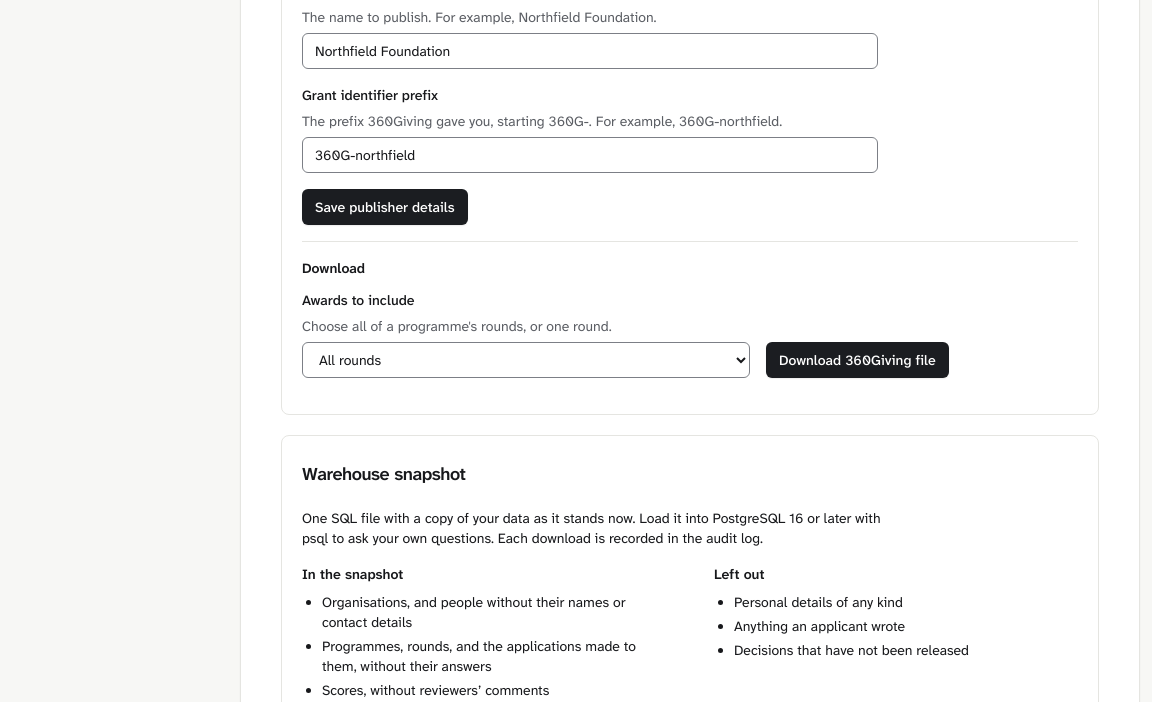
Test: the 360Giving file › shows why the file could not be made, in words
(page scrolled)
Click the button "Download 360Giving file" at (857, 360), box [766, 342, 949, 378]
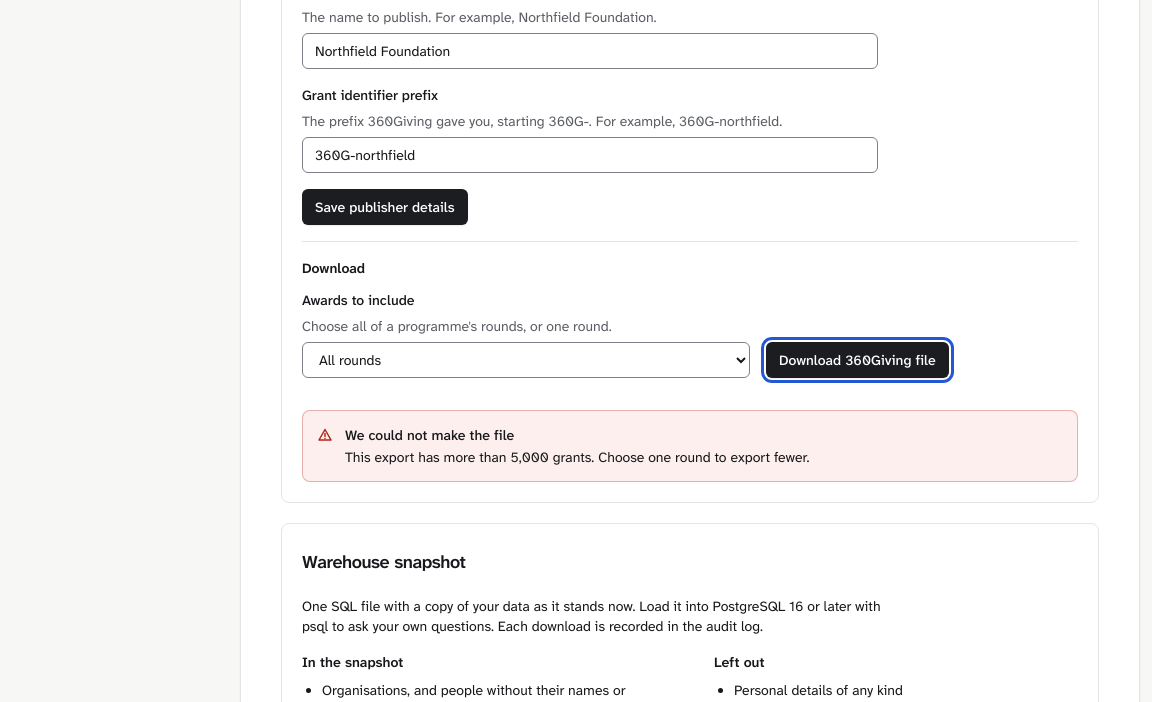
Result: the text "We could not make the file" is shown at [345, 426, 514, 444]
Result: the text "Choose one round to export fewer" is shown at [345, 448, 809, 466]
